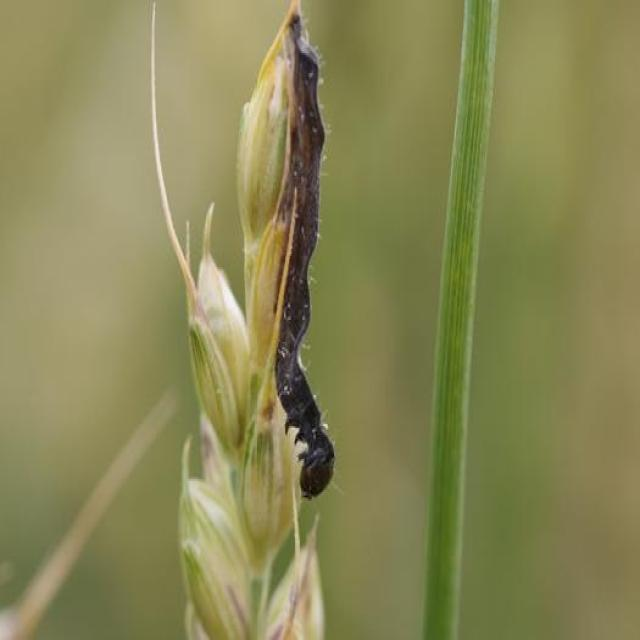army worm: (274, 29, 357, 507)
